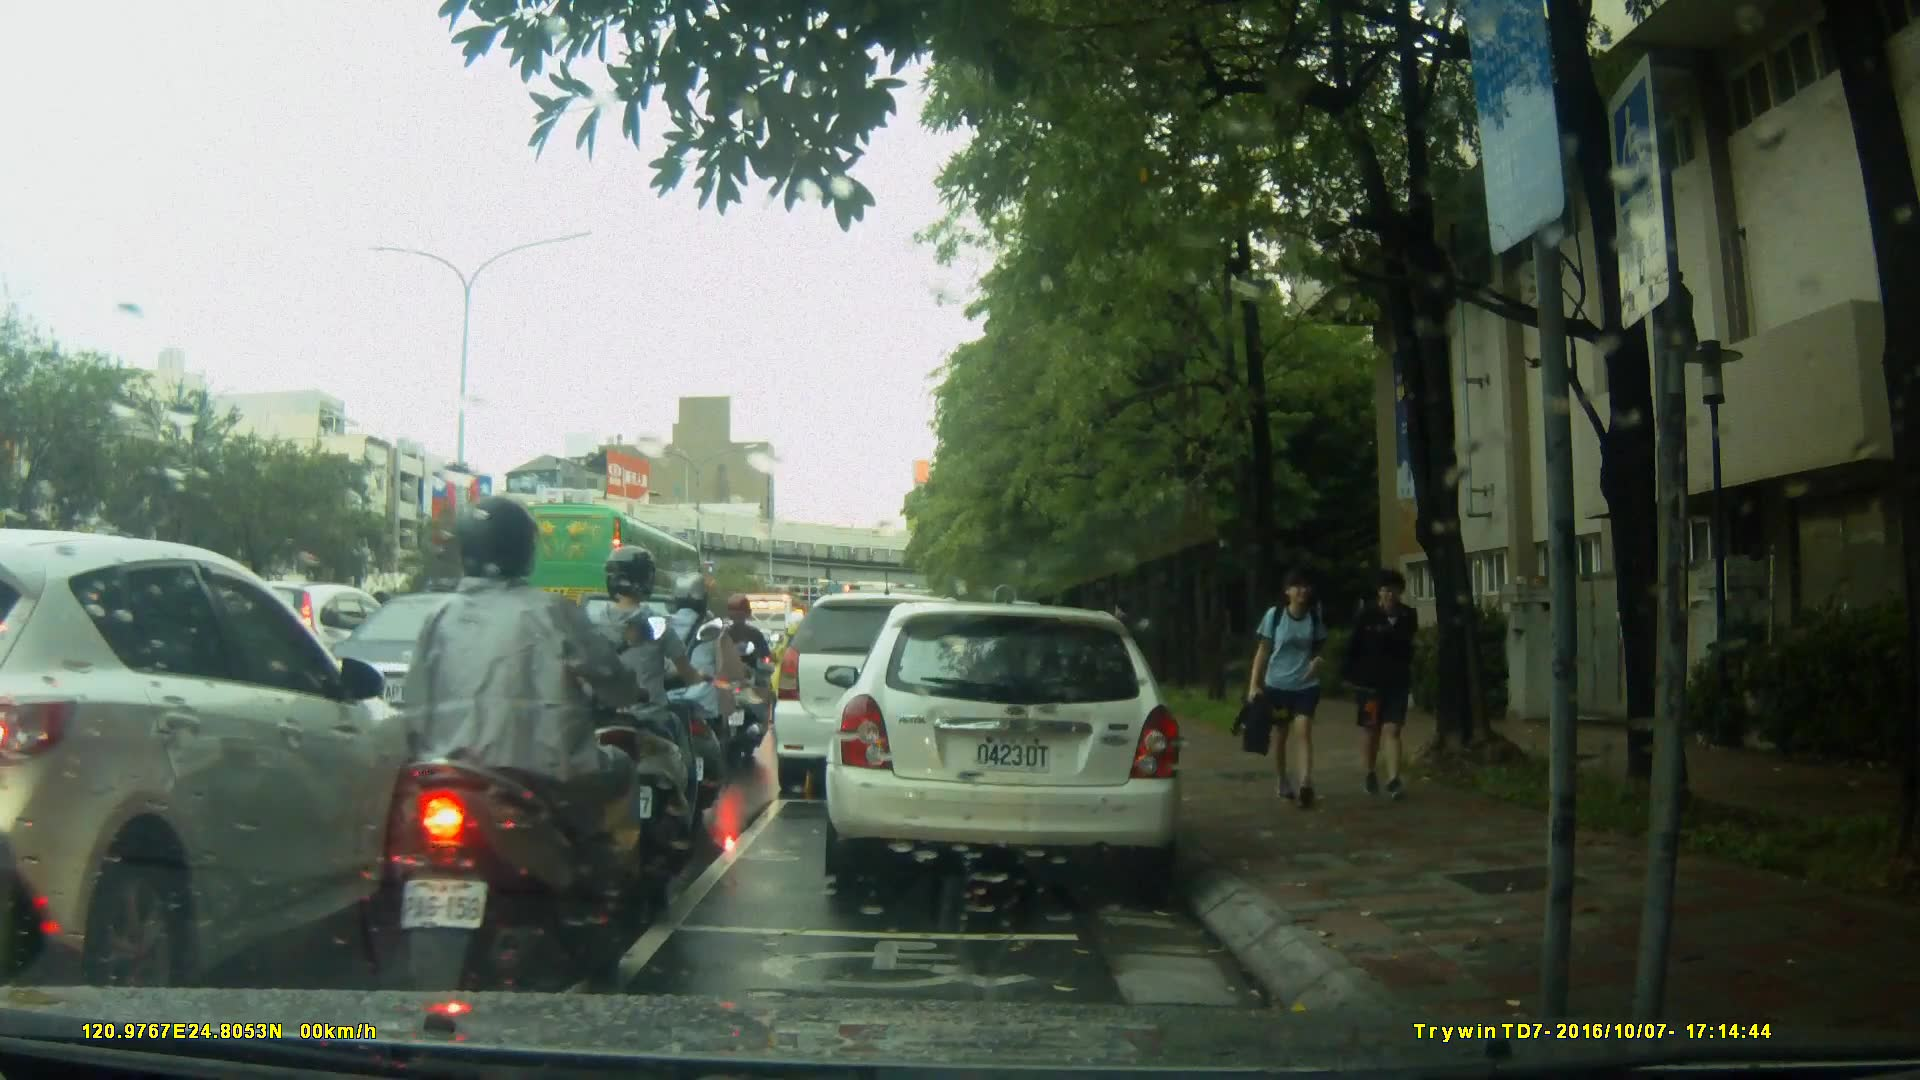pedestrian: (1226, 561, 1338, 813), (1344, 567, 1426, 803), (1113, 597, 1136, 678)
rider: (388, 494, 651, 1020), (566, 547, 708, 900), (651, 571, 737, 809), (705, 593, 774, 767)
vehicle: (1, 528, 450, 988), (831, 592, 1196, 897), (315, 590, 628, 798), (770, 591, 999, 803), (495, 500, 707, 636)
